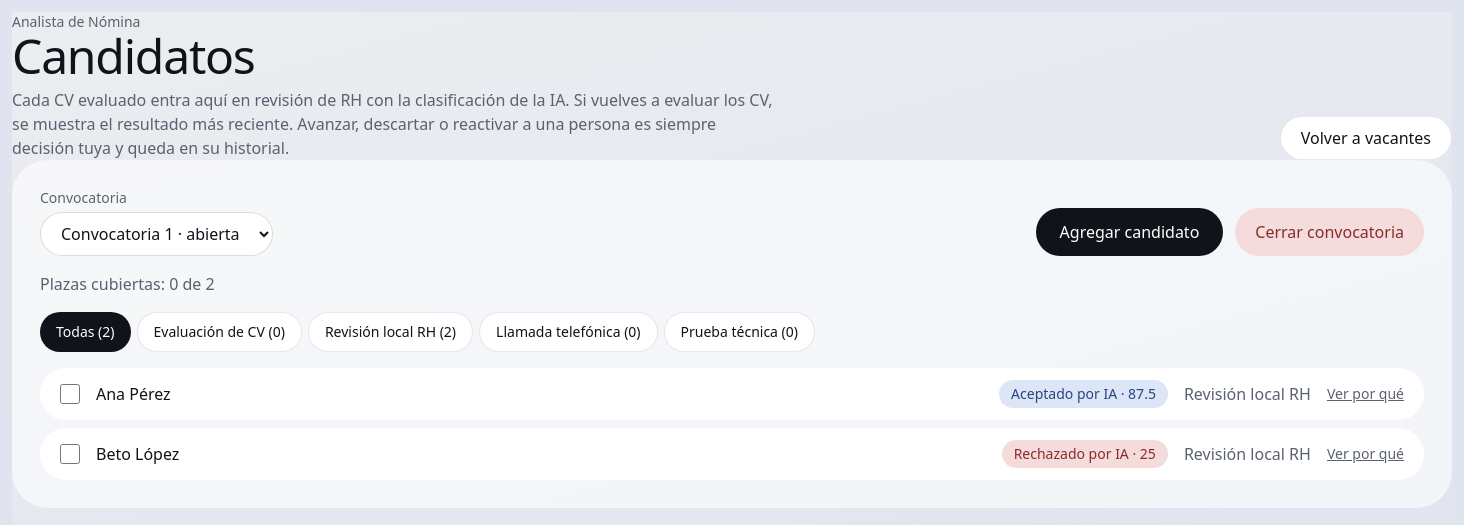
Scenario: CandidatesWorkspace › muestra a los candidatos por etapa con la clasificación inicial de la IA
expect the number of list items is 2: met, box [40,368,1424,420]; [40,428,1424,480]
expect the list item that starts with "Ana Pérez" shows "Aceptado por IA · 87.5": met, box [40,368,1424,420]
Click the button "Llamada telefónica (0)" at (568, 332), box [479,312,658,352]
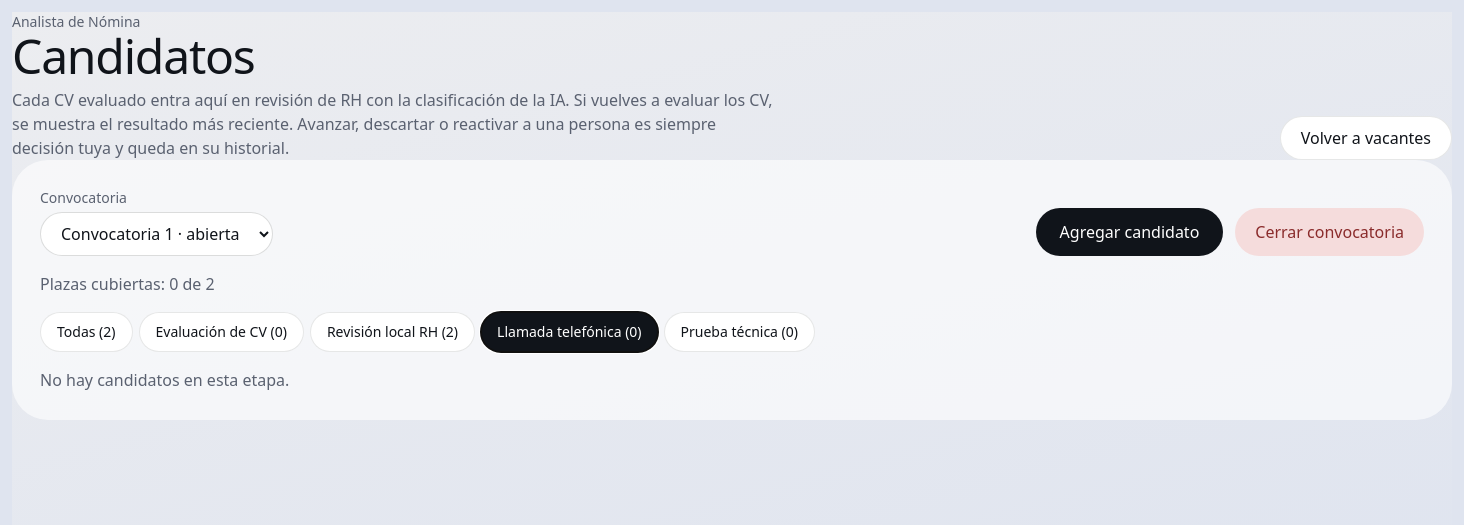
expect the text "No hay candidatos en esta etapa." is shown: met, box [40,369,289,391]
